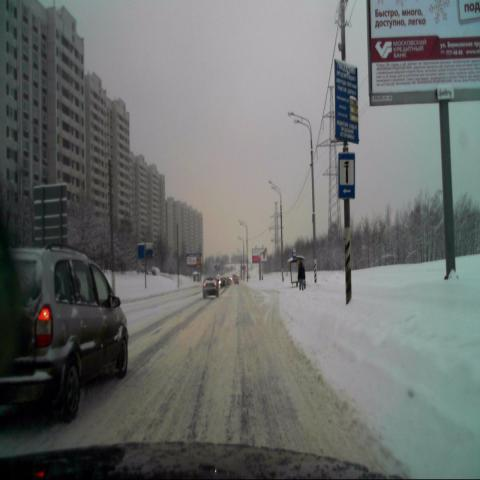7_4: (338, 151, 356, 200)
